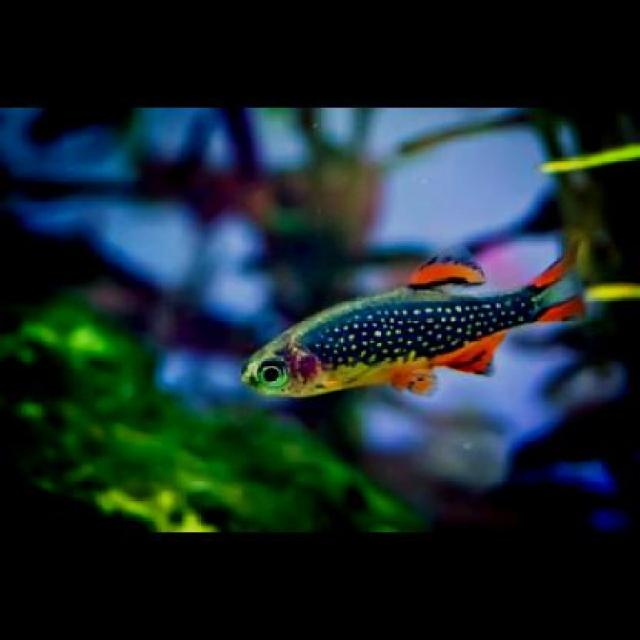ZebraFish: (238, 243, 592, 397)
